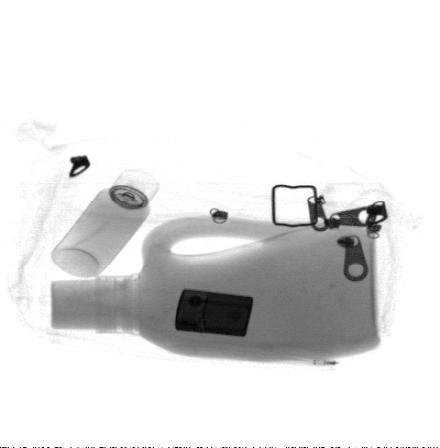Lighter: (175, 287, 255, 337)
Sprayer: (50, 169, 162, 278)
